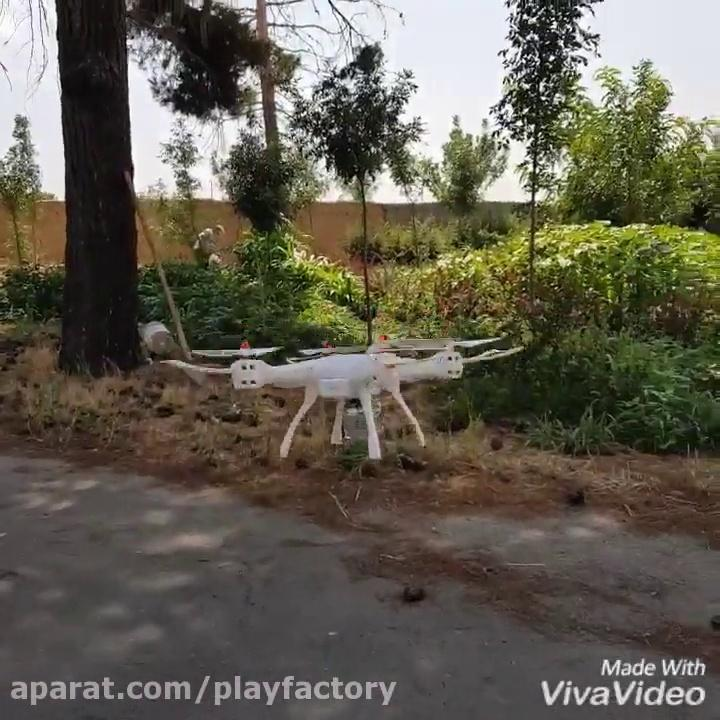drone: (159, 329, 525, 463)
